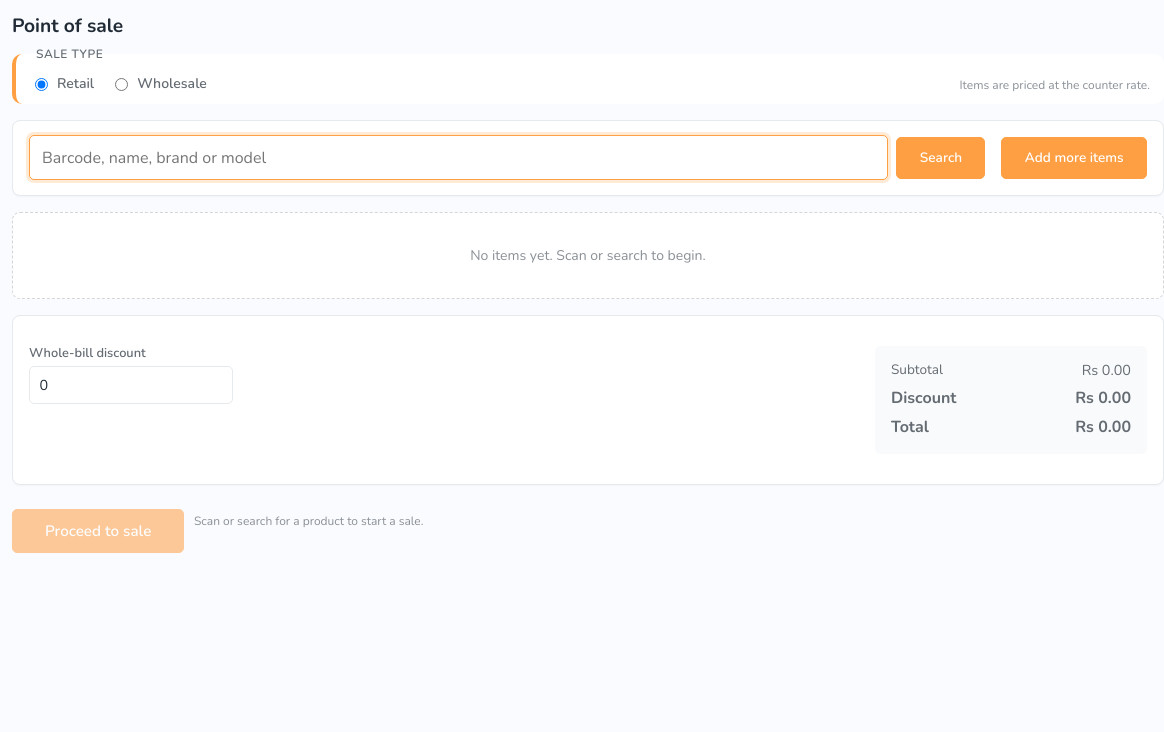
PosPage lookup › still reports a genuine server failure as an error
In the field named "scan or search": (459, 158) [29,135,888,180], type "cable"
Then press Enter
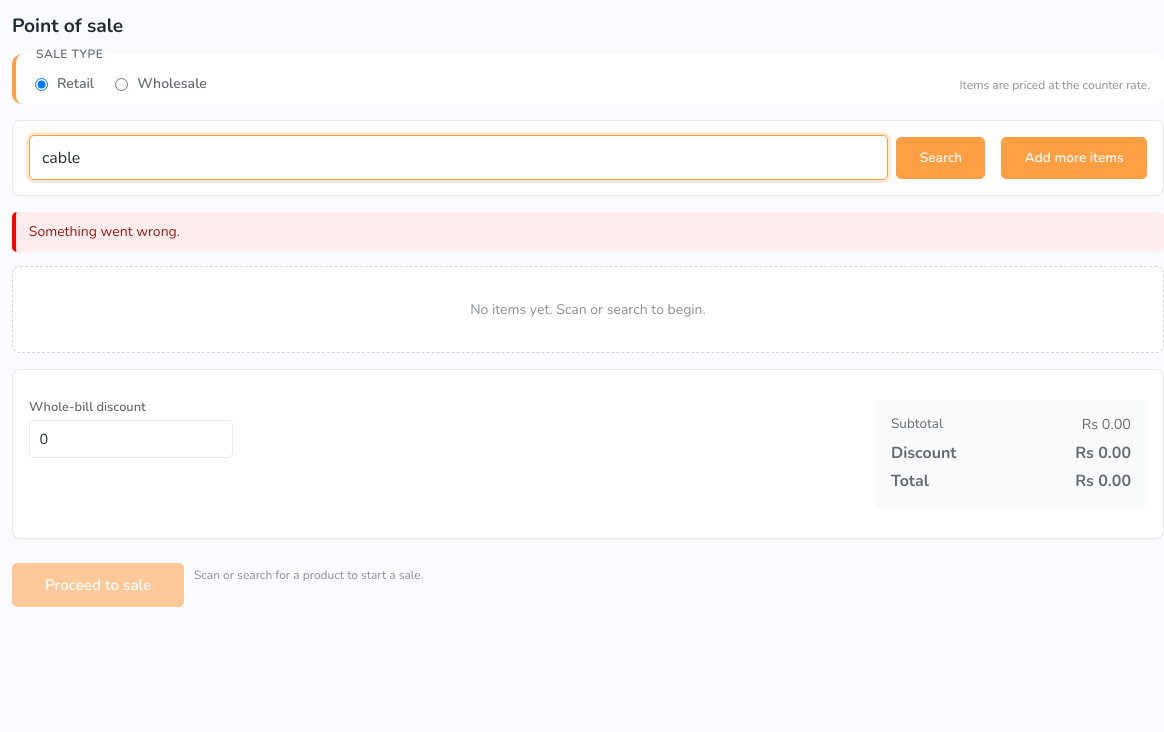
Now the text "Something went wrong." is shown, box [12,212,1163,252]
